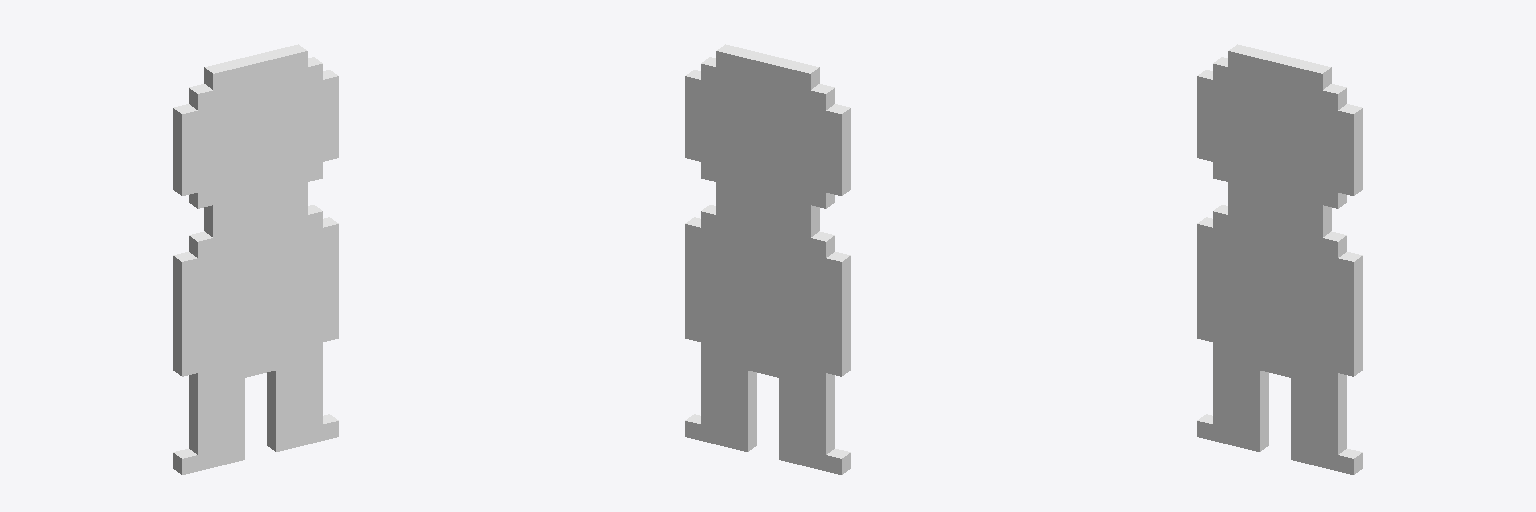
Rendered from дед.obj.
The picture shows the model from 3 angles: view 1: azimuth 30°, elevation 25°; view 2: azimuth 150°, elevation 25°; view 3: azimuth 330°, elevation 25°; orthographic projection.
Visible parts, largest first — view 1: object 1; view 2: object 1; view 3: object 1.
Boxes of the visible parts, <box> form: object 1: <box>173,44,338,474</box>; object 1: <box>685,44,850,474</box>; object 1: <box>1197,44,1362,474</box>.
Bounding box in the file's own units: 1 × 2.4 × 0.1.